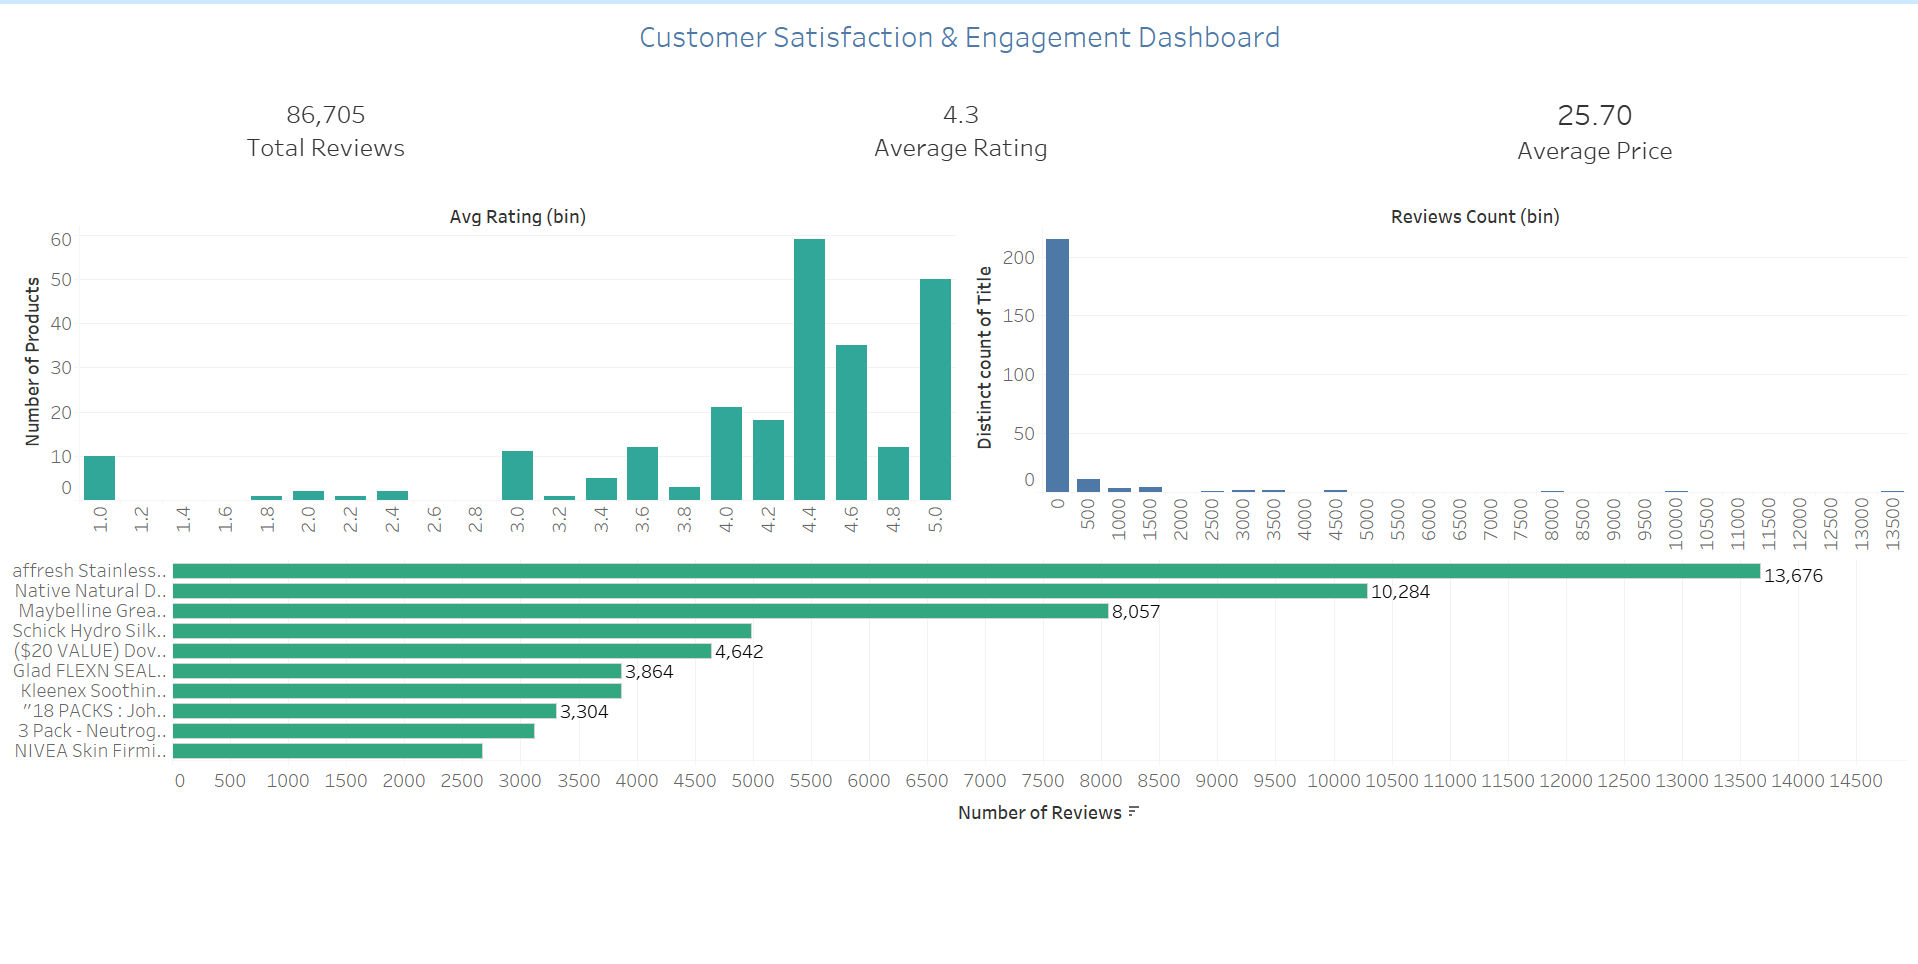

The page's visual inventory and layout, read from the dashboard file:
{"tool":"tableau","page":{"name":"Customer Satisfaction & Engagement Dashboard","canvas":[1000,1000],"units":"permille","ordinal":0},"visuals":[{"type":"title","box":[5,10.7,990,63]},{"type":"worksheet","title":"KPI - Total Reviews","mark":"Automatic","box":[5,73.7,330.4,143.4]},{"type":"worksheet","title":"KPI - Avg Rating","mark":"Automatic","box":[335.4,73.7,329.8,143.4]},{"type":"worksheet","title":"KPI - Avg Price","mark":"Automatic","box":[665.2,73.7,329.8,143.4]},{"type":"worksheet","title":"Rating Distribution","mark":"Automatic","rows":["title"],"cols":["Avg Rating (bin)"],"box":[5,217.2,495,355.2]},{"type":"worksheet","title":"Review Distribution","mark":"Automatic","rows":["title"],"cols":["Reviews Count (bin)"],"box":[500,217.2,495,355.2]},{"type":"worksheet","title":"Top 10 Products by Reviews","mark":"Bar","rows":["title"],"cols":["reviews_count"],"box":[5,572.4,990,374]}]}

Visuals, with their boxes on the dashboard's canvas, which has no fixed pixel size, in thousandths of its width and height (x1, y1, x2, y2). These are canvas units, not pixel positions in the 1918x964 screenshot, which may show the page scaled, cropped or inside an application window:
title: bbox(5, 11, 995, 74)
"KPI - Total Reviews" worksheet: bbox(5, 74, 335, 217)
"KPI - Avg Rating" worksheet: bbox(335, 74, 665, 217)
"KPI - Avg Price" worksheet: bbox(665, 74, 995, 217)
"Rating Distribution" worksheet: bbox(5, 217, 500, 572)
"Review Distribution" worksheet: bbox(500, 217, 995, 572)
"Top 10 Products by Reviews" worksheet (Bar marks): bbox(5, 572, 995, 946)
